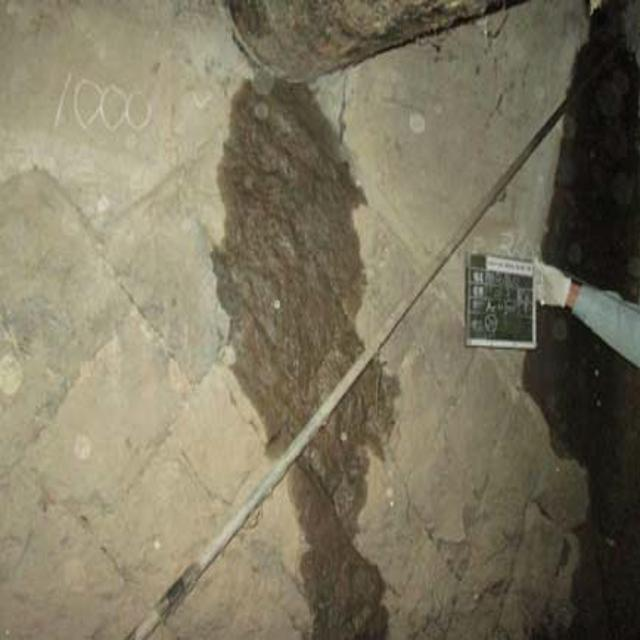leakage: (221, 44, 406, 640)
